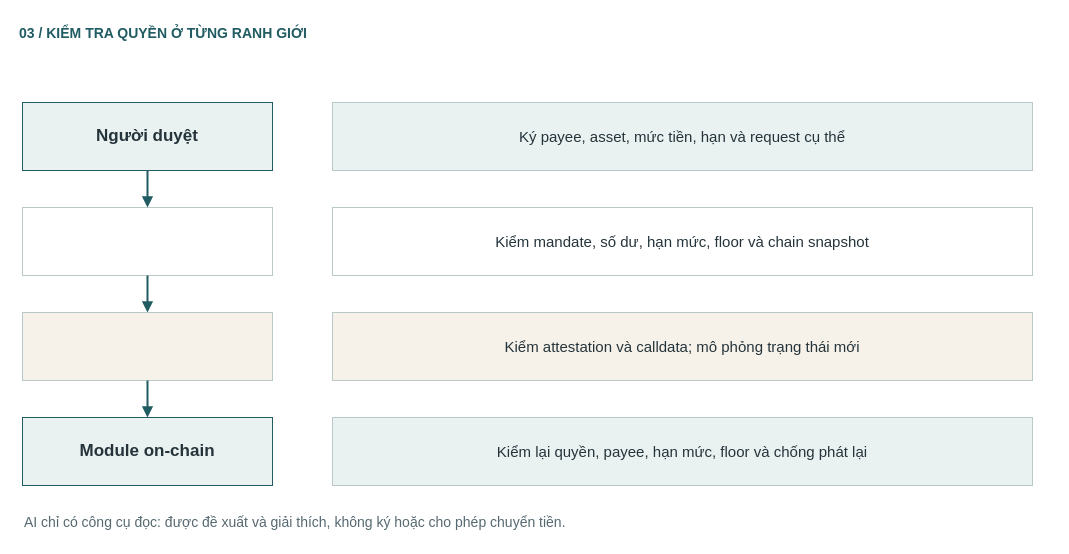
Some shapes in this 1069 by 554 pixel diagram are drawn without their labels. Each missing label, with the centre of its shape:
Policy validator: (x=147, y=241)
Signer tách biệt: (x=147, y=346)
